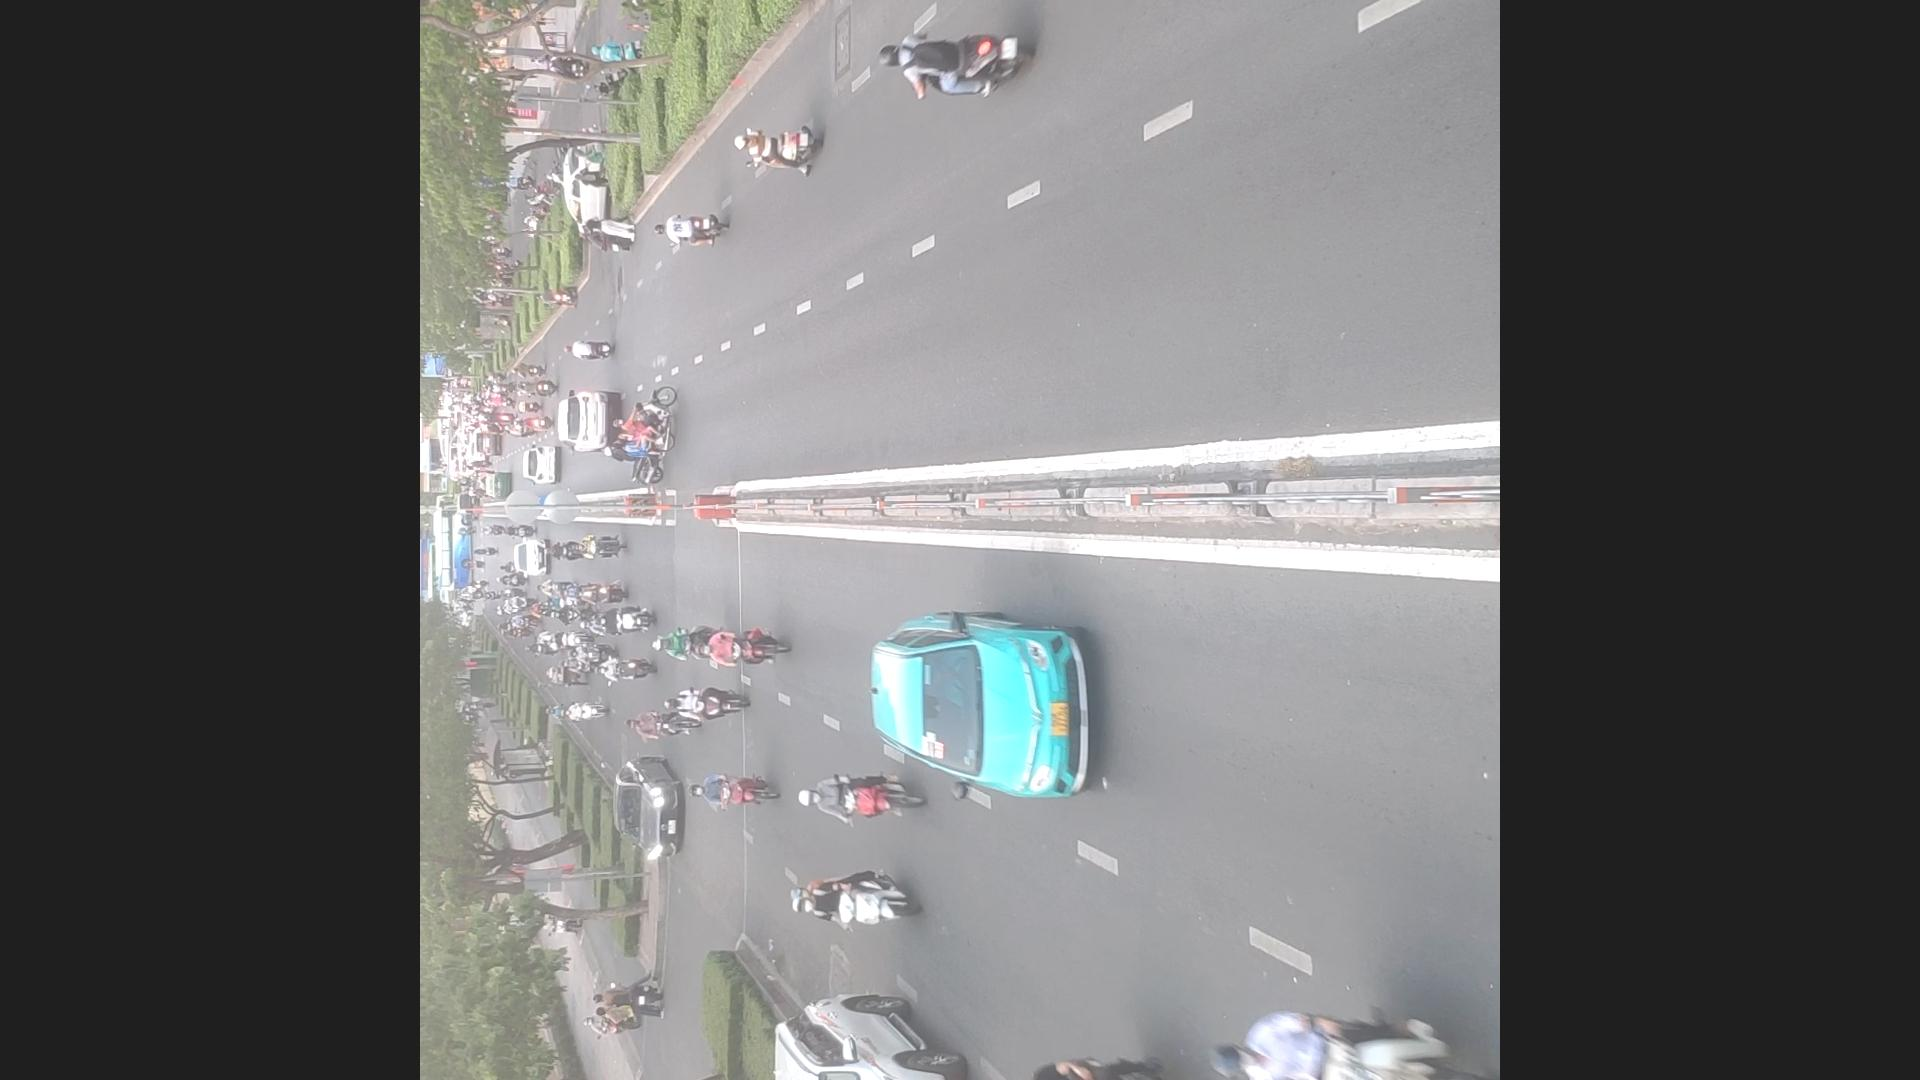car: (870, 607, 1088, 808), (770, 982, 963, 1080), (615, 752, 683, 865), (563, 133, 617, 232), (559, 385, 612, 448)
motorbike: (866, 11, 1052, 102), (1218, 1021, 1494, 1080), (795, 881, 923, 923), (796, 779, 916, 818), (615, 386, 679, 454), (733, 131, 822, 171), (694, 633, 785, 673), (1013, 1059, 1178, 1080), (654, 204, 723, 251), (632, 713, 707, 737), (692, 779, 774, 800), (666, 692, 738, 716), (650, 633, 716, 657), (589, 659, 657, 676), (595, 611, 655, 628), (566, 338, 608, 360), (564, 702, 605, 723), (582, 585, 626, 601), (568, 647, 609, 662), (578, 541, 622, 554), (553, 607, 585, 622), (553, 633, 589, 646), (541, 579, 576, 591), (550, 542, 578, 556), (549, 597, 580, 608), (556, 661, 589, 670)
